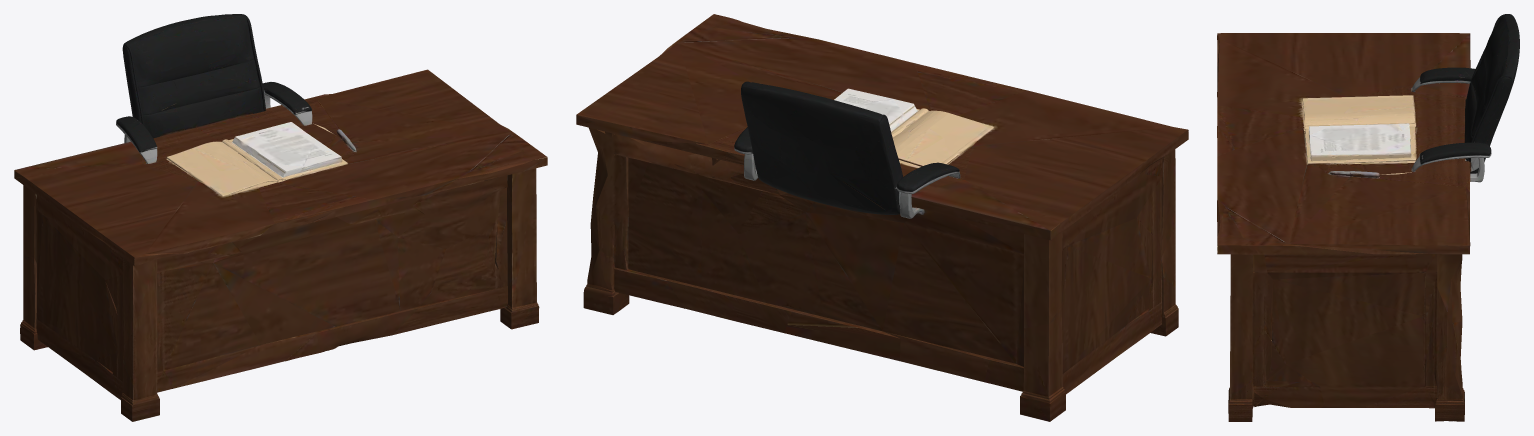
File: himoyachi-stoli-mobile.glb
3 views of the same model, side by side, from view 1: azimuth 30°, elevation 25°; view 2: azimuth 150°, elevation 25°; view 3: azimuth 270°, elevation 25° (orthographic). The views are drawn at different scales.
Parts seen in each view (by area): view 1: output_unwrapped; view 2: output_unwrapped; view 3: output_unwrapped.
Boxes of the visible parts, x1,y1,x2,y2 form: output_unwrapped: (14, 14, 547, 421); output_unwrapped: (576, 14, 1188, 421); output_unwrapped: (1217, 14, 1519, 421).
Size of the model in its own units: 1.8 by 1.06 by 1.08.
Materials: 1 (1 with a texture image).
